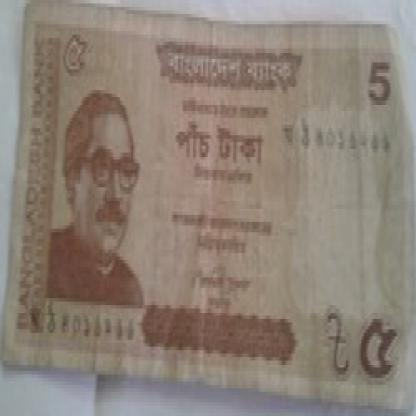Five Taka: (168, 111, 268, 173), (356, 302, 401, 392), (53, 17, 88, 87), (359, 52, 396, 107)
